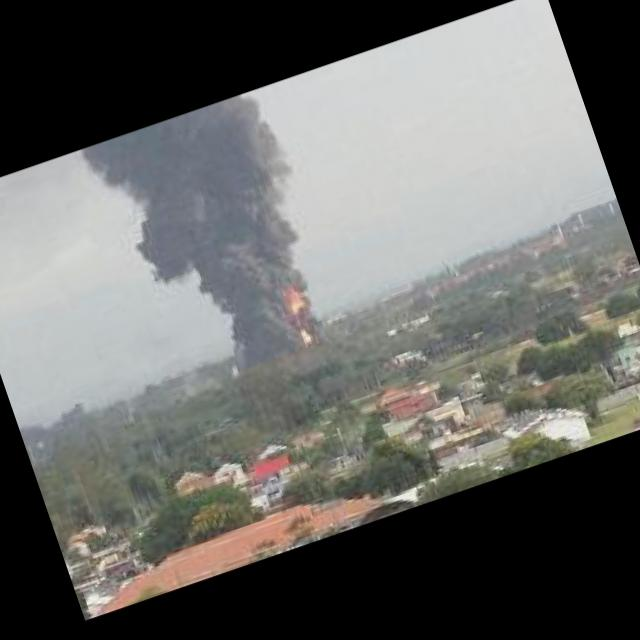fire: (270, 278, 326, 348)
smoke: (78, 86, 340, 392)
